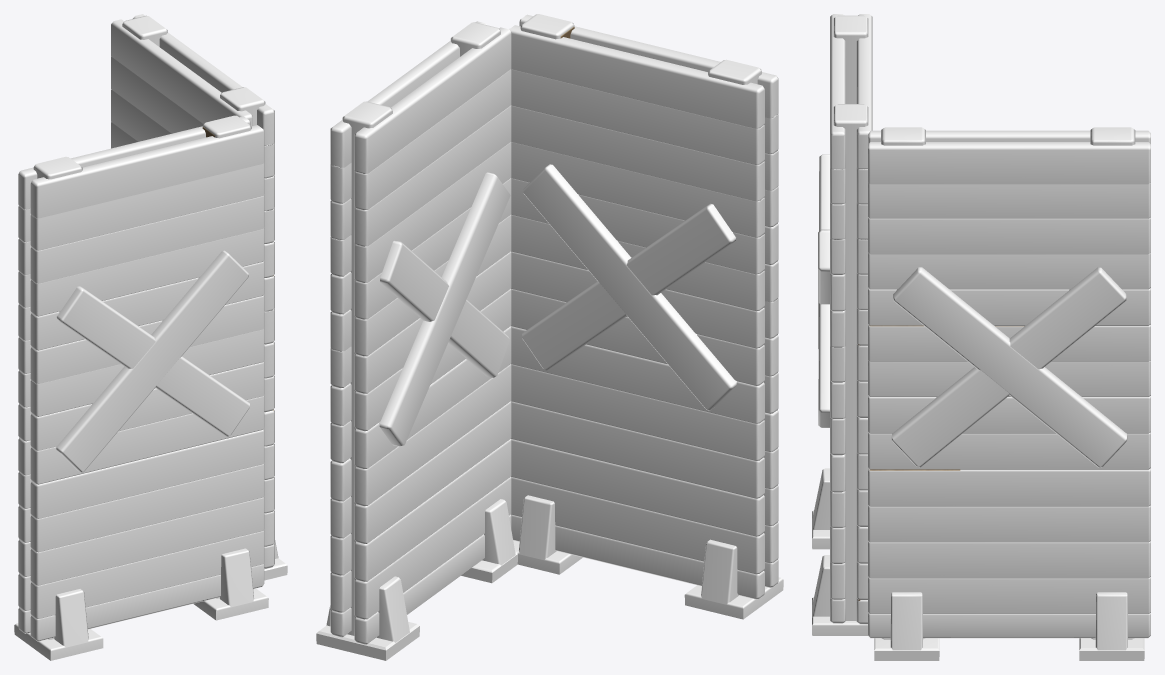
File: PaintBallBarrierCornerVisual.glb
3 renders of one model, left to right at view 1: azimuth 30°, elevation 25°; view 2: azimuth 150°, elevation 25°; view 3: azimuth 270°, elevation 25°, orthographic. The views are drawn at different scales.
Parts seen in each view (by area): view 1: BarrierHologram; view 2: BarrierHologram; view 3: BarrierHologram.
Boxes of the visible parts, bbox=[...] form: BarrierHologram: bbox=[14, 14, 287, 660]; BarrierHologram: bbox=[316, 14, 783, 660]; BarrierHologram: bbox=[812, 14, 1150, 660].
Bounding box in the file's own units: 1.21 × 2.02 × 1.22.
Materials: 2 (1 with a texture image).
